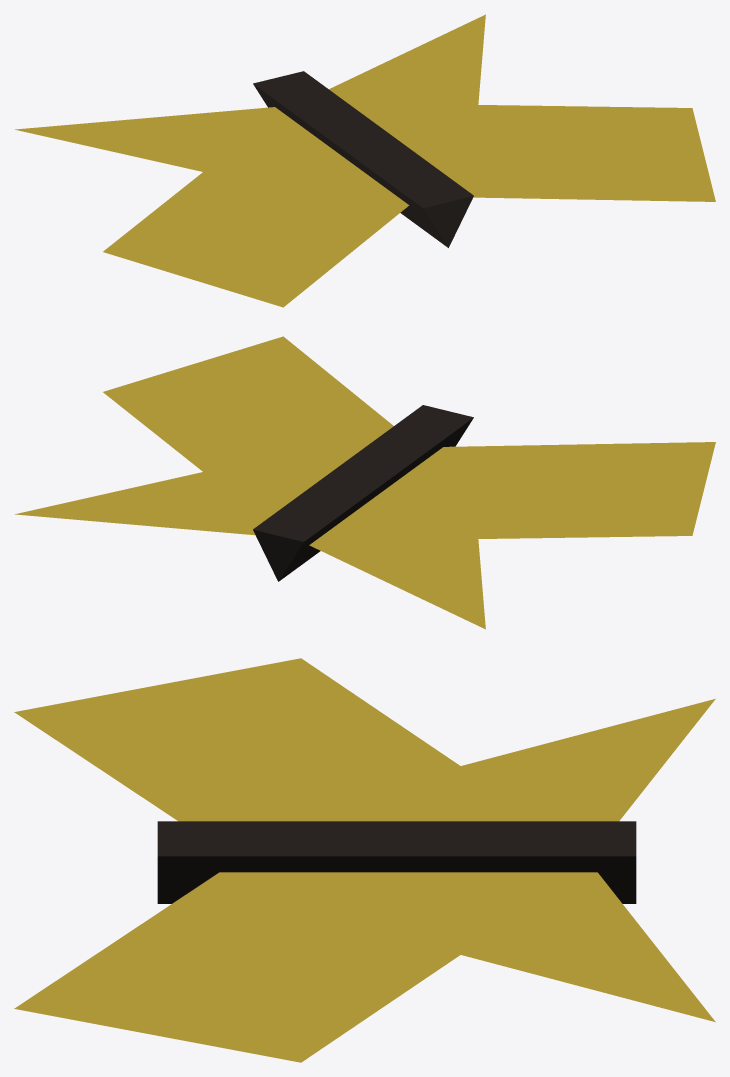
File: e8a_sommerfugl.glb
3 views of the same model, one above another, from view 1: azimuth 30°, elevation 25°; view 2: azimuth 150°, elevation 25°; view 3: azimuth 270°, elevation 25° (orthographic). The views are drawn at different scales.
Parts seen in each view (by area): view 1: vinge_H, vinge_V, E8a_sommerfugl; view 2: vinge_H, vinge_V, E8a_sommerfugl; view 3: vinge_V, vinge_H, E8a_sommerfugl.
Part boxes in pixels (x1,y1,x2,y2): vinge_H: [15, 107, 409, 307]; vinge_V: [329, 14, 715, 201]; E8a_sommerfugl: [253, 71, 473, 247]; vinge_H: [309, 442, 715, 629]; vinge_V: [15, 336, 393, 535]; E8a_sommerfugl: [253, 405, 473, 581]; vinge_V: [14, 872, 715, 1062]; vinge_H: [14, 658, 715, 821]; E8a_sommerfugl: [157, 821, 636, 903].
Bounding box in the file's own units: 0.06 × 0.0045 × 0.044.
